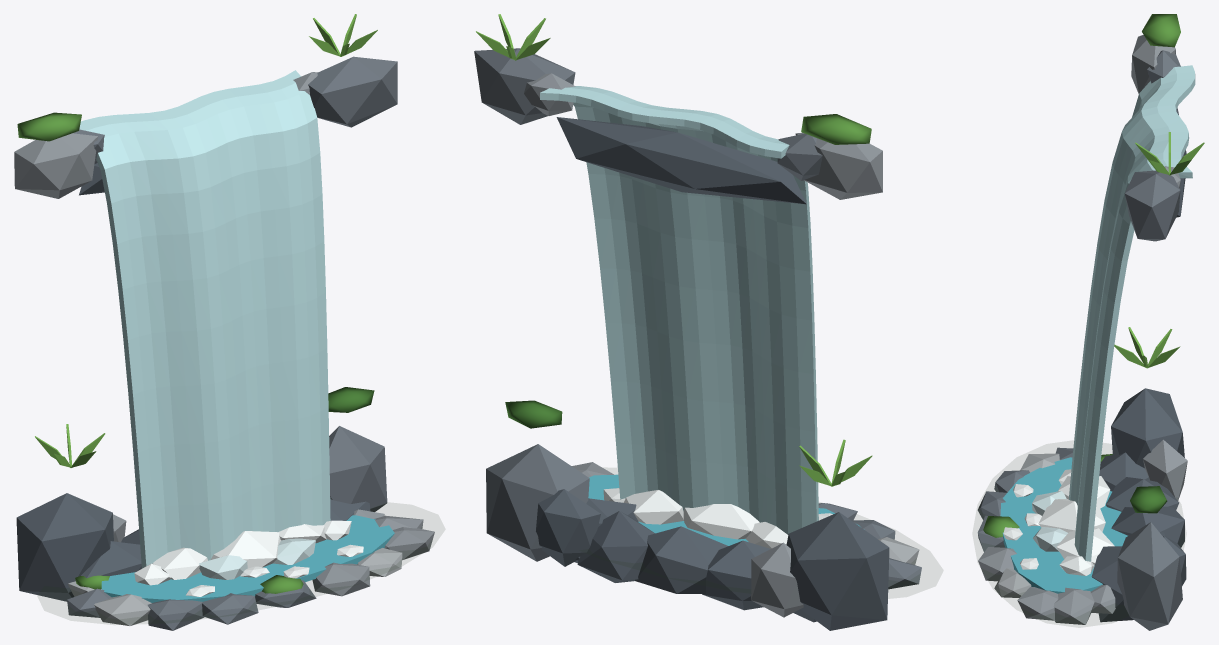
Rendered from cliff_falls.glb.
3 views of the same model, side by side, from view 1: azimuth 30°, elevation 25°; view 2: azimuth 150°, elevation 25°; view 3: azimuth 270°, elevation 25° (orthographic). The views are drawn at different scales.
Visible parts, largest first — view 1: cliff_falls; view 2: cliff_falls; view 3: cliff_falls.
Boxes of the visible parts, x1=… form: cliff_falls: x1=14, y1=14, x2=434, y2=630; cliff_falls: x1=474, y1=14, x2=921, y2=630; cliff_falls: x1=977, y1=14, x2=1204, y2=630.
Bounding box in the file's own units: 1.98 × 2.42 × 1.03.
